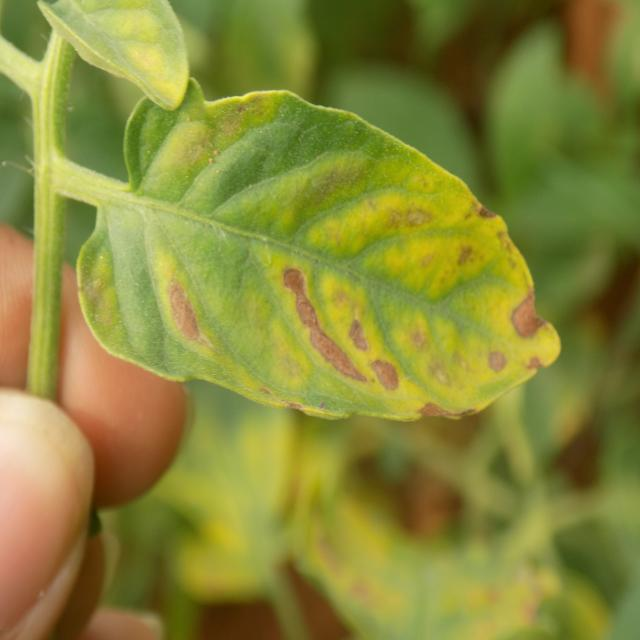tomato_early blight: (80, 77, 564, 420)
